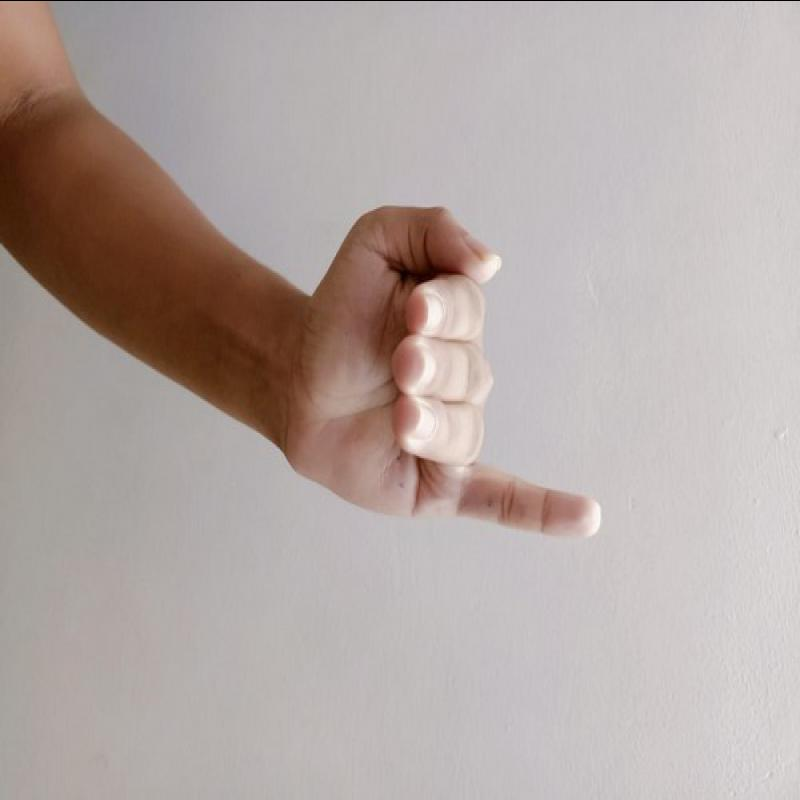Kartharee Mukham: (275, 190, 605, 567)
